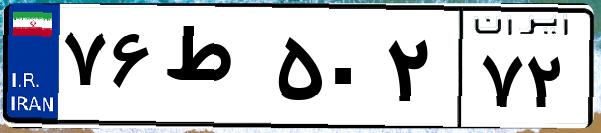0: (330, 28, 385, 110)
2: (385, 28, 445, 110), (525, 38, 570, 115)
5: (270, 28, 330, 110)
6: (110, 28, 158, 98)
7: (57, 26, 110, 100), (475, 38, 525, 113)
ط: (158, 20, 270, 120)
